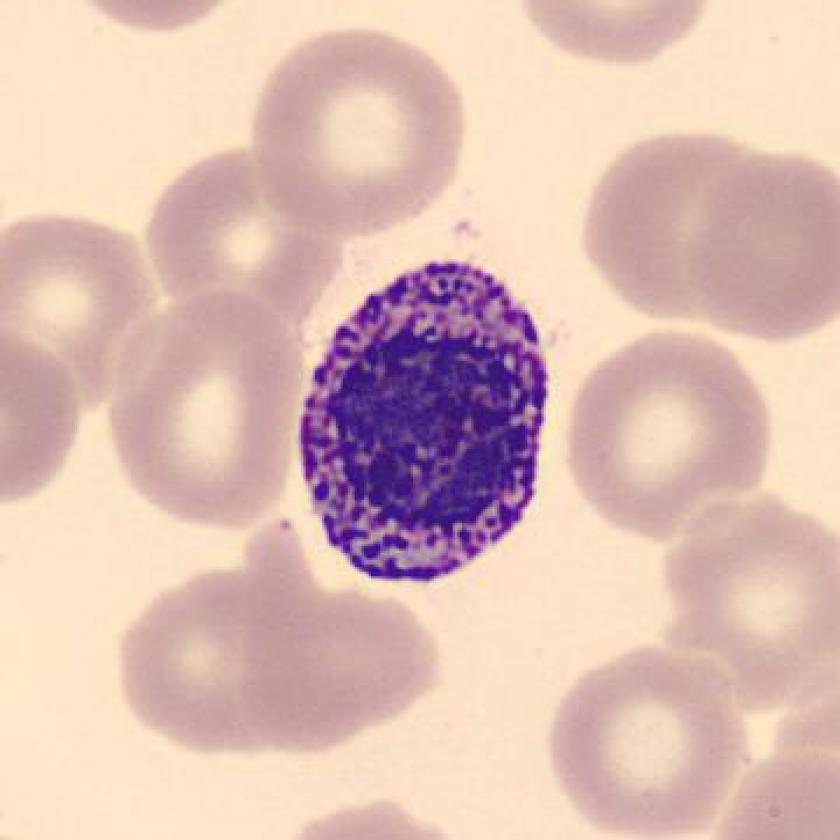basophil: (293, 249, 547, 587)
